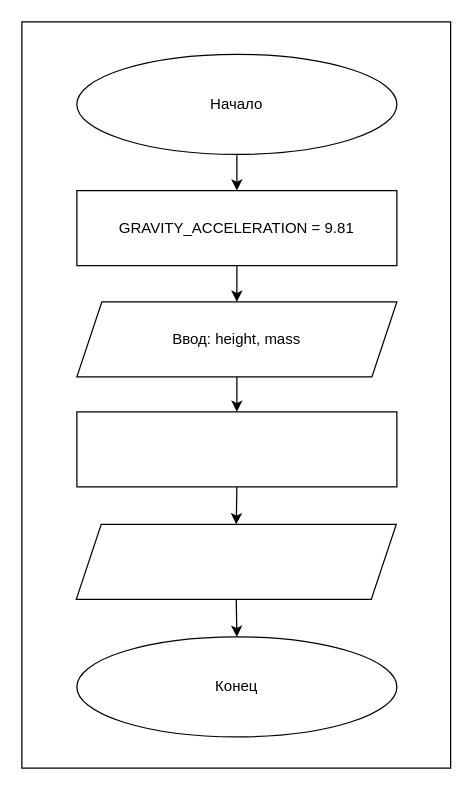
The diagram is 473 pixels wide and 790 high, and some of its shapes have lost their labels. Each missing label, with the centre of its shape:
gravity = mass * GRAVITY_ACCELERATION: point 236,449
Вывод: gravity: point 235,561
